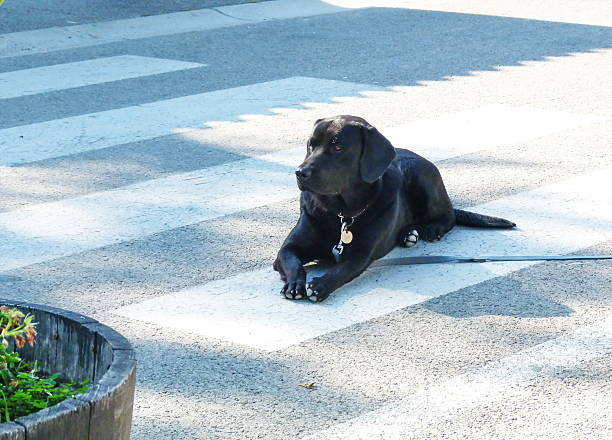kopek: (215, 114, 507, 320)
